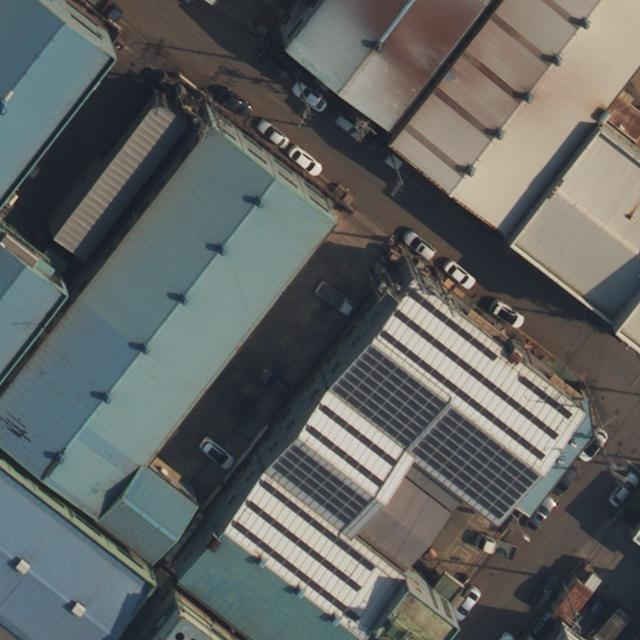panel: (379, 329, 546, 460), (394, 307, 556, 441), (409, 406, 543, 524), (329, 344, 447, 450), (257, 480, 379, 574), (245, 500, 365, 594), (229, 519, 347, 610), (270, 445, 373, 527), (405, 288, 496, 361), (517, 375, 573, 420)
